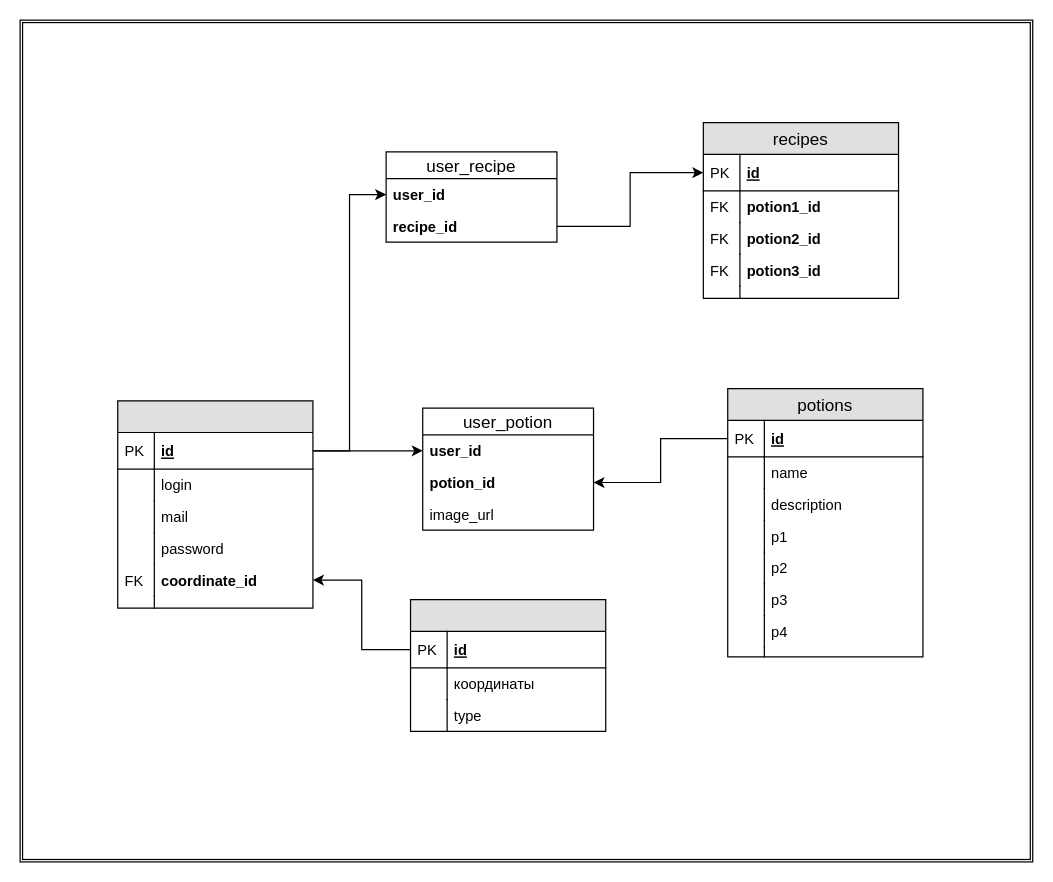
Image size: 1053x882. Some labels were removed from this diagram. The shapes that lost their labels are listed below. From the top down, each one's box as (x1, y1, x2, y2) in pixels, then its label:
(117, 400, 313, 608): users
(409, 598, 606, 731): coordinates
